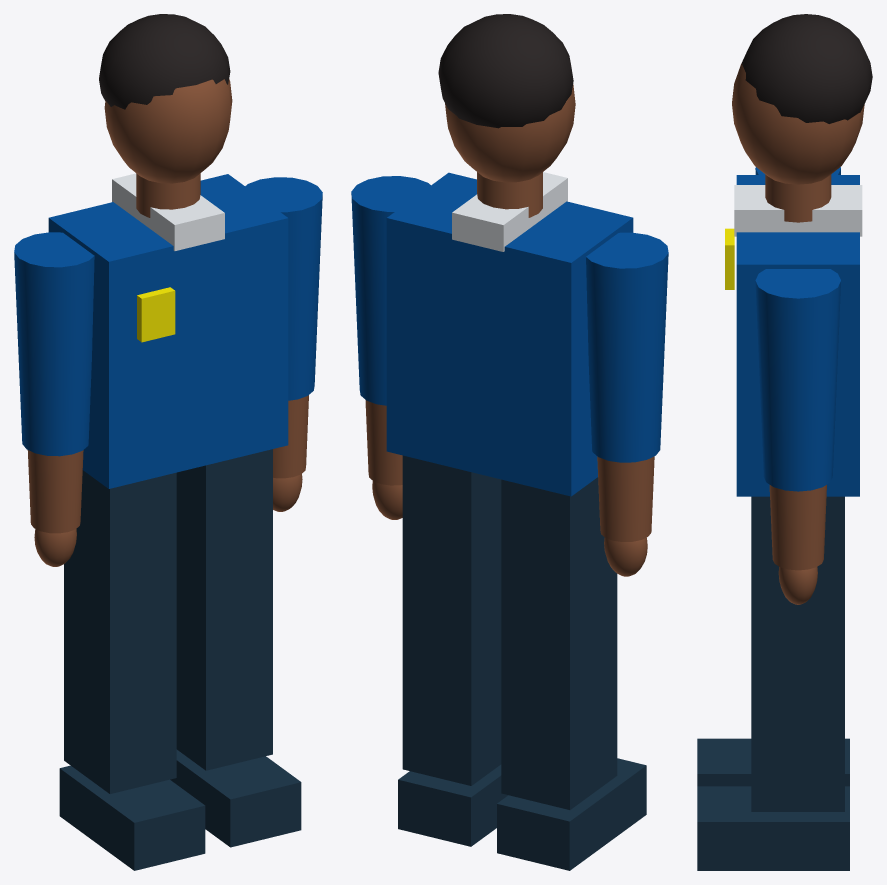
Rendered from team-man.glb.
3 renders of one model, left to right at view 1: azimuth 30°, elevation 25°; view 2: azimuth 150°, elevation 25°; view 3: azimuth 270°, elevation 25°, orthographic. The views are drawn at different scales.
Parts seen in each view (by area): view 1: Trousers (×2), Shirt, Sleeve (×2), Shoe (×2), Head, Hair, Forearm (×2), Collar, Hand (×2), Neck, Badge; view 2: Trousers (×2), Shirt, Sleeve (×2), Shoe (×2), Hair, Forearm (×2), Head, Collar, Hand (×2), Neck; view 3: Trousers, Sleeve, Shirt, Shoe (×2), Hair, Head, Collar, Forearm, Neck, Hand, Badge.
Part boxes in pixels (x1,y1,x2,y2): Trousers (×2): (64,449,272,793); Shirt: (48,174,288,488); Sleeve (×2): (14,177,322,456); Shoe (×2): (59,749,301,870); Head: (104,79,232,183); Hair: (99,14,230,109); Forearm (×2): (27,395,308,533); Collar: (112,173,224,250); Hand (×2): (34,474,302,566); Neck: (136,173,200,217); Badge: (137,287,175,342); Trousers (×2): (402,455,617,809); Shirt: (386,172,633,496); Sleeve (×2): (351,176,668,462); Shoe (×2): (398,758,646,870); Hair: (438,14,573,128); Forearm (×2): (365,400,654,541); Head: (445,84,575,182); Collar: (452,172,567,251); Hand (×2): (372,481,647,576); Neck: (477,172,542,217); Trousers: (751,496,844,811); Sleeve: (755,269,840,491); Shirt: (736,175,859,496); Shoe (×2): (697,738,849,870); Hair: (741,14,872,123); Head: (732,63,864,184); Collar: (734,185,862,236); Forearm: (769,485,826,570); Neck: (765,174,831,222); Hand: (778,567,817,604); Badge: (725,228,734,289).
Size of the model in its own units: 0.714 by 1.81 by 0.356.
